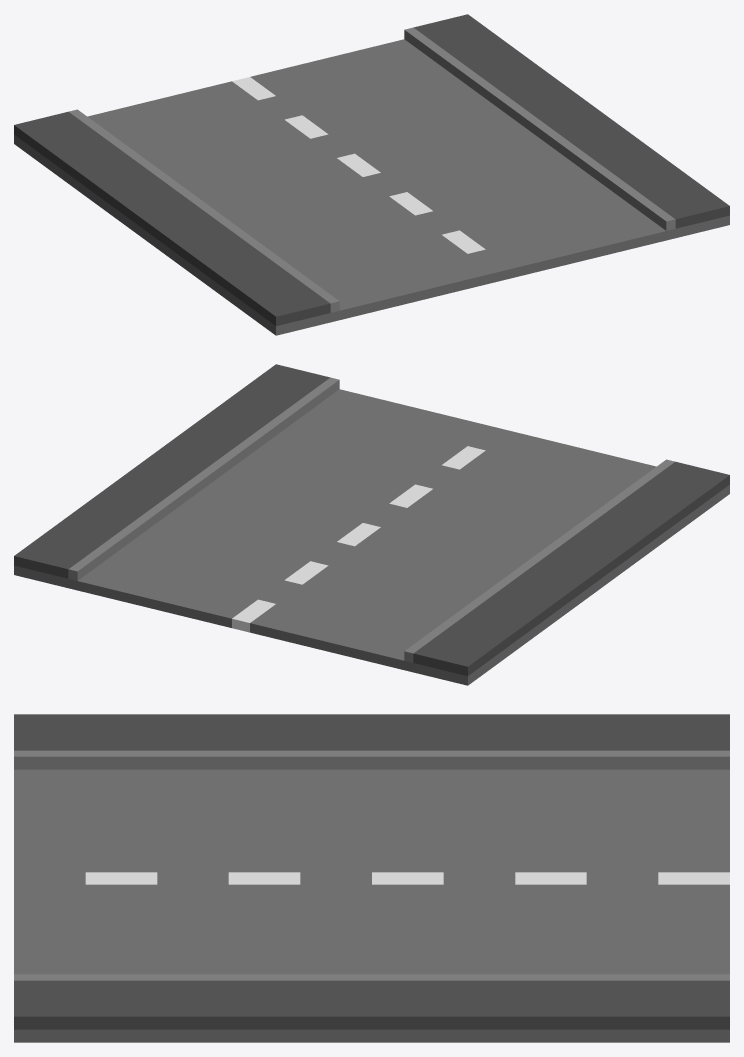
File: --10-A6 - Alley 3.obj
3 renders of one model, top to bottom at view 1: azimuth 30°, elevation 25°; view 2: azimuth 150°, elevation 25°; view 3: azimuth 270°, elevation 25°, orthographic. The views are drawn at different scales.
Visible parts, largest first — view 1: A6 - Alley 3; view 2: A6 - Alley 3; view 3: A6 - Alley 3.
Boxes of the visible parts, x1,y1,x2,y2 form: A6 - Alley 3: (14,14,729,335); A6 - Alley 3: (14,364,729,685); A6 - Alley 3: (14,714,729,1042).
Size of the model in its own units: 5 by 0.2 by 5.
1 material, 1 textured.
